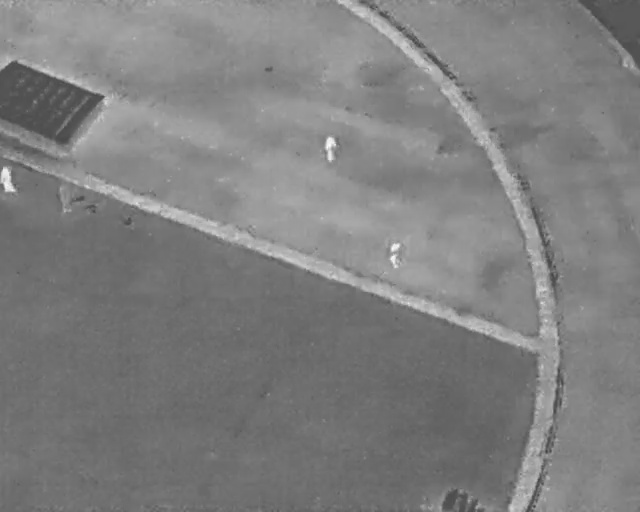Person: (0, 164, 17, 195), (323, 133, 338, 164), (389, 241, 402, 269)
